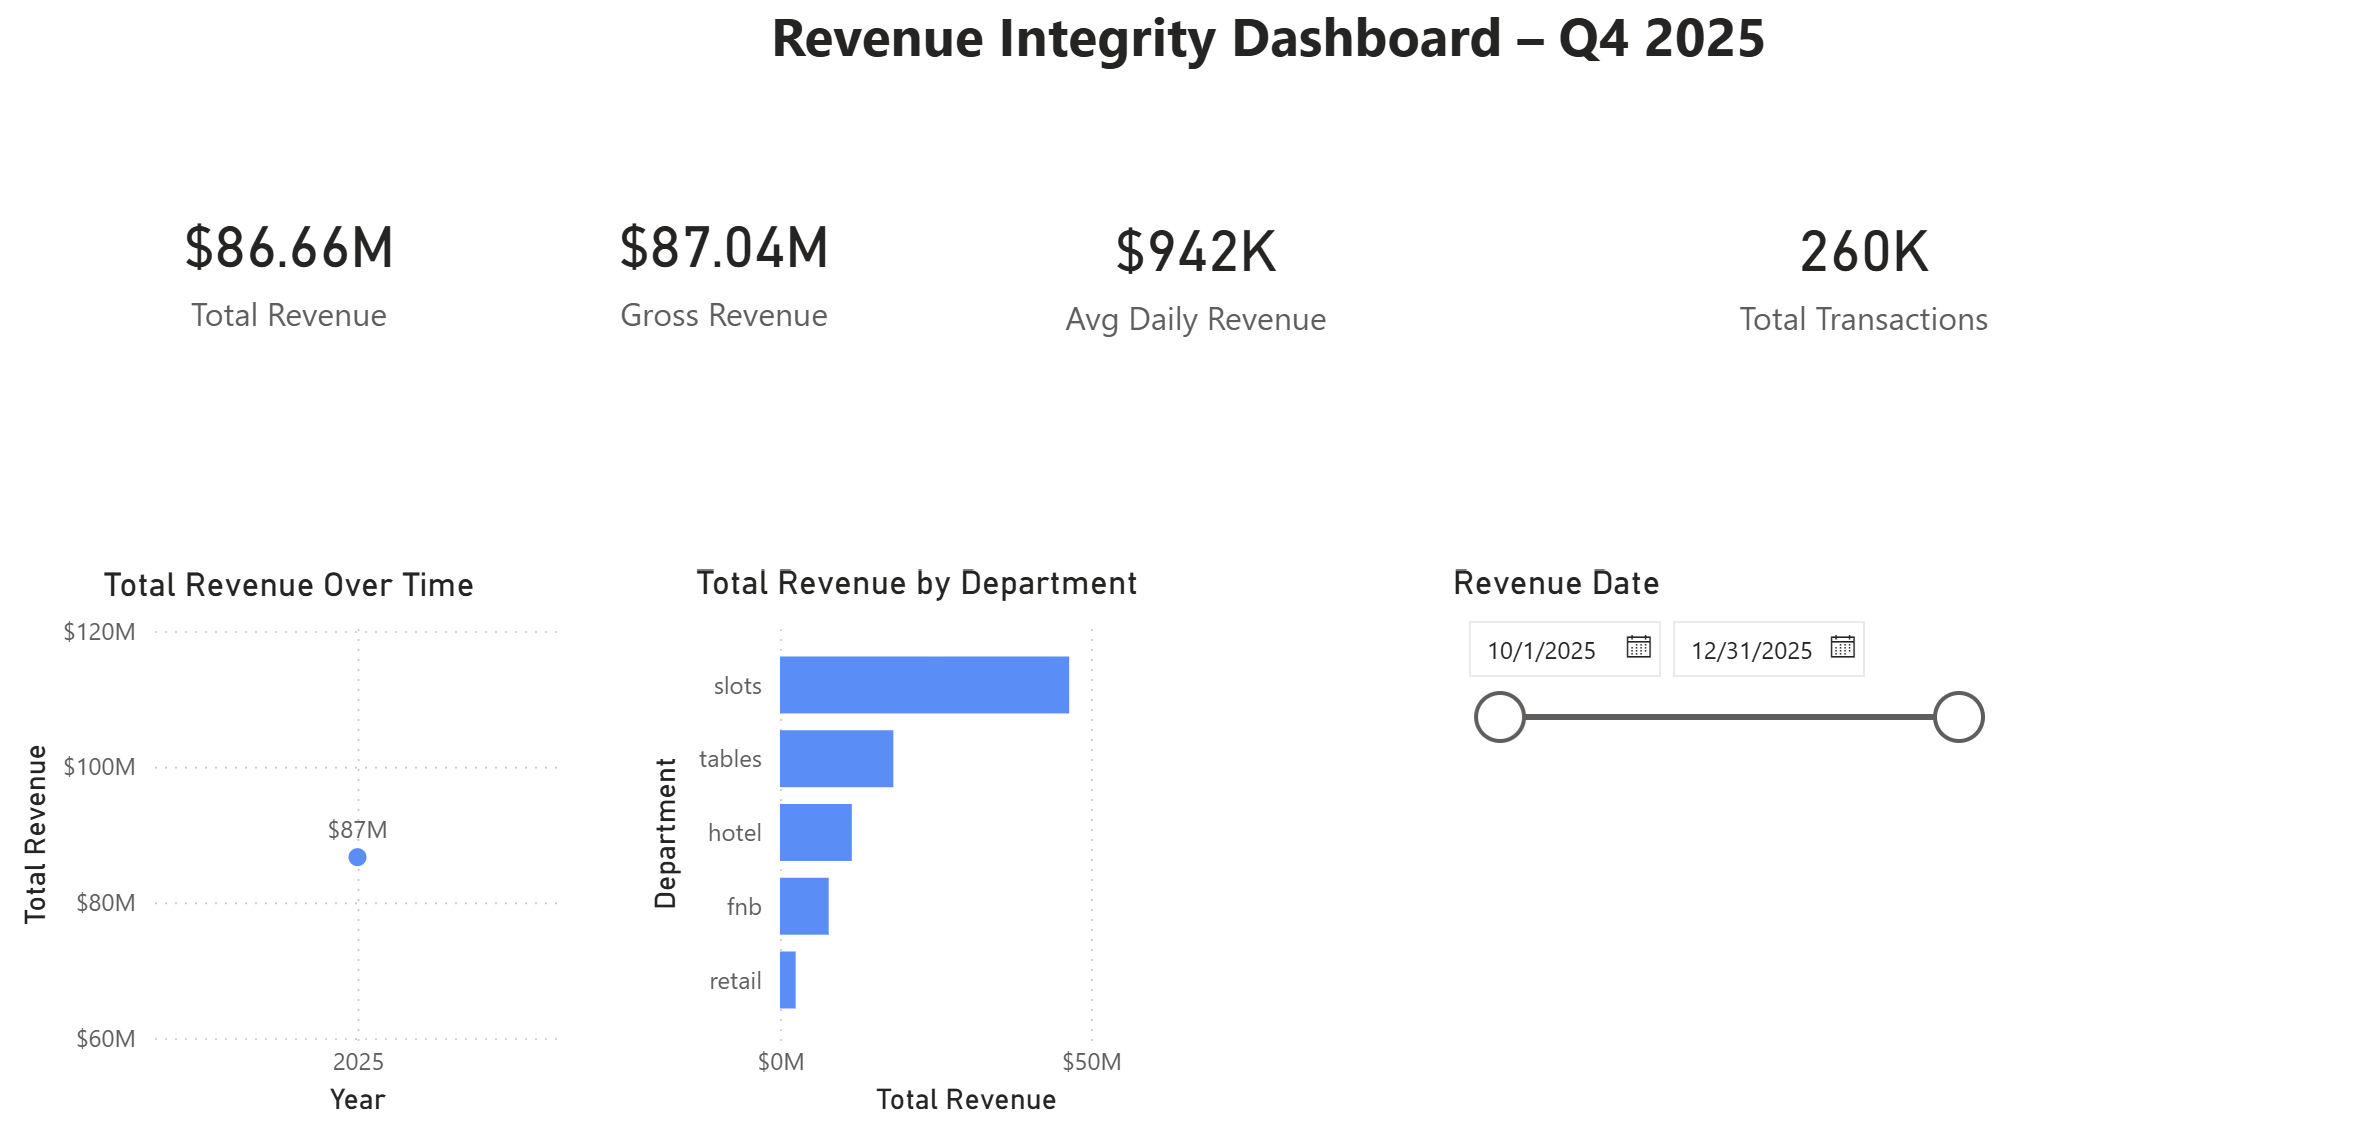

This screenshot's page, from the dashboard's own definition file:
{"tool":"powerbi","page":{"name":"Page 1","canvas":[1280,720],"ordinal":0},"visuals":[{"type":"card","fields":{"Values":["clean_revenue_data.Total Revenue"]},"box":[10,0,280,280],"z":0},{"type":"card","fields":{"Values":["clean_revenue_data.Gross Revenue"]},"box":[228.1,0,278.7,280.2],"z":1},{"type":"card","fields":{"Values":["clean_revenue_data.Avg Daily Revenue"]},"box":[464,2,279,280],"z":2},{"type":"lineChart","title":"Total Revenue Over Time","fields":{"Category":["clean_revenue_data.revenue_date.Variation.Date Hierarchy.Year","clean_revenue_data.revenue_date.Variation.Date Hierarchy.Quarter","clean_revenue_data.revenue_date.Variation.Date Hierarchy.Month","clean_revenue_data.revenue_date.Variation.Date Hierarchy.Day"],"Y":["clean_revenue_data.Total Revenue"]},"box":[10,290,280,280],"z":4},{"type":"clusteredBarChart","title":"Total Revenue by Department","fields":{"Category":["clean_revenue_data.department"],"Y":["clean_revenue_data.Total Revenue"]},"box":[324.6,289.4,278.7,280.2],"z":5},{"type":"slicer","fields":{"Values":["clean_revenue_data.revenue_date"]},"box":[727,289,279,280],"z":6},{"type":"textbox","box":[0,3.3,1280,56.7],"z":7},{"type":"textbox","box":[1016.7,490,263.3,80],"z":8},{"type":"textbox","box":[0,1.7,1280,88.3],"z":9},{"type":"card","fields":{"Values":["clean_revenue_data.Total Transactions"]},"box":[669,46,537,192],"z":10}]}

Visuals, with their boxes on the page's 1280x720 design canvas (x1, y1, x2, y2). These are canvas units, not pixel positions in the 2376x1136 screenshot, which may show the page scaled, cropped or inside an application window:
card - clean_revenue_data.Total Revenue: region(10, 0, 290, 280)
card - clean_revenue_data.Gross Revenue: region(228, 0, 507, 280)
card - clean_revenue_data.Avg Daily Revenue: region(464, 2, 743, 282)
"Total Revenue Over Time" lineChart: region(10, 290, 290, 570)
"Total Revenue by Department" clusteredBarChart: region(325, 289, 603, 570)
slicer - clean_revenue_data.revenue_date: region(727, 289, 1006, 569)
textbox: region(0, 3, 1280, 60)
textbox: region(1017, 490, 1280, 570)
textbox: region(0, 2, 1280, 90)
card - clean_revenue_data.Total Transactions: region(669, 46, 1206, 238)
